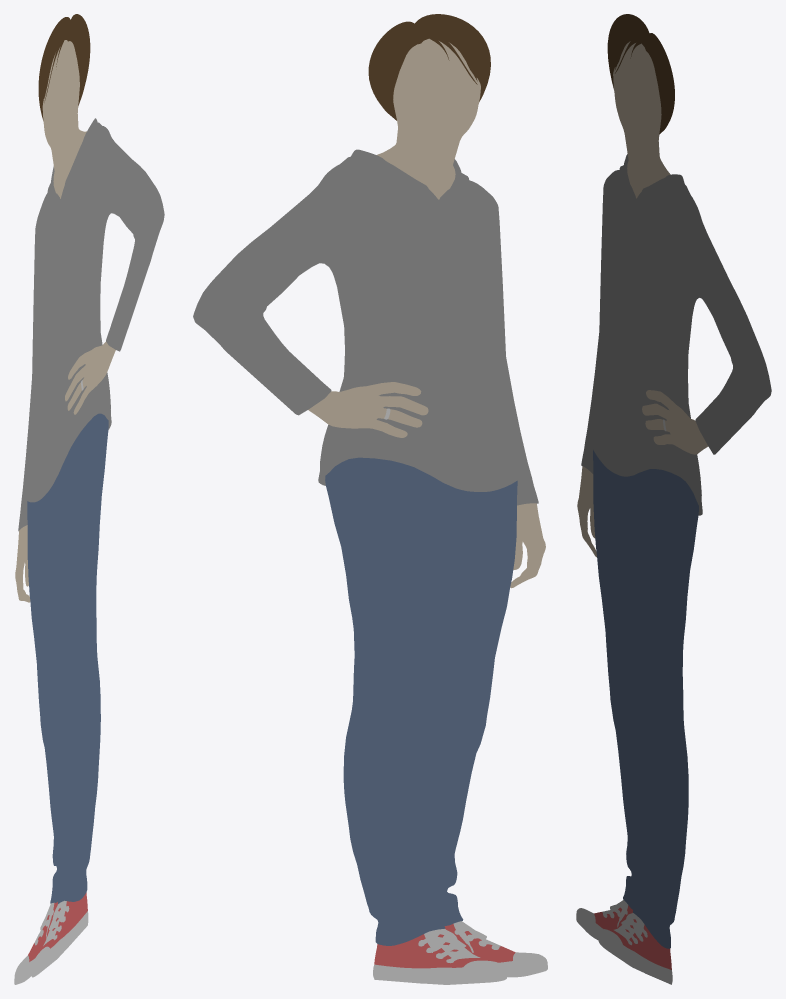
The model's file is sketchup-model.gltf.
3 renders of one model, left to right at view 1: azimuth 30°, elevation 25°; view 2: azimuth 150°, elevation 25°; view 3: azimuth 270°, elevation 25°, orthographic. The views are drawn at different scales.
Visible parts, largest first — view 1: Stacy; view 2: Stacy; view 3: Stacy.
Part boxes in pixels (x1,y1,x2,y2): Stacy: (14, 14, 164, 984); Stacy: (193, 14, 547, 984); Stacy: (576, 14, 771, 984).
Size of the model in its own units: 0.4583 by 1.67 by 0.3093.
